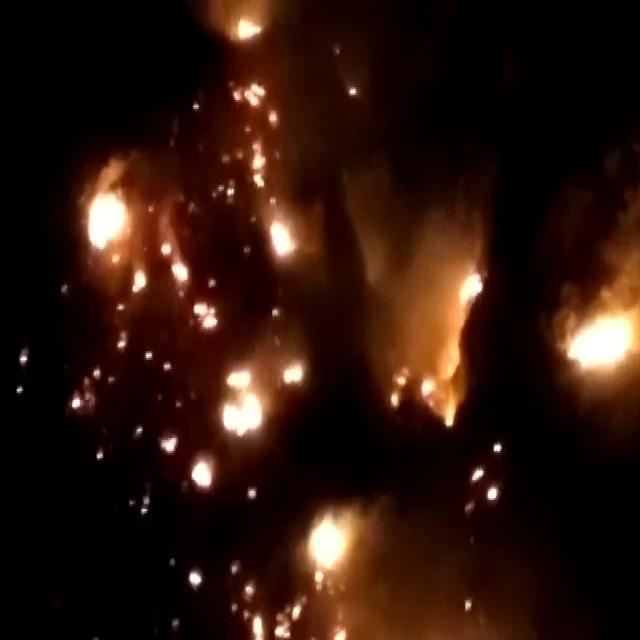Fire: (574, 306, 634, 374), (84, 185, 132, 256), (306, 511, 353, 574), (218, 392, 266, 439), (270, 208, 294, 261), (454, 270, 482, 308), (282, 360, 306, 385)
